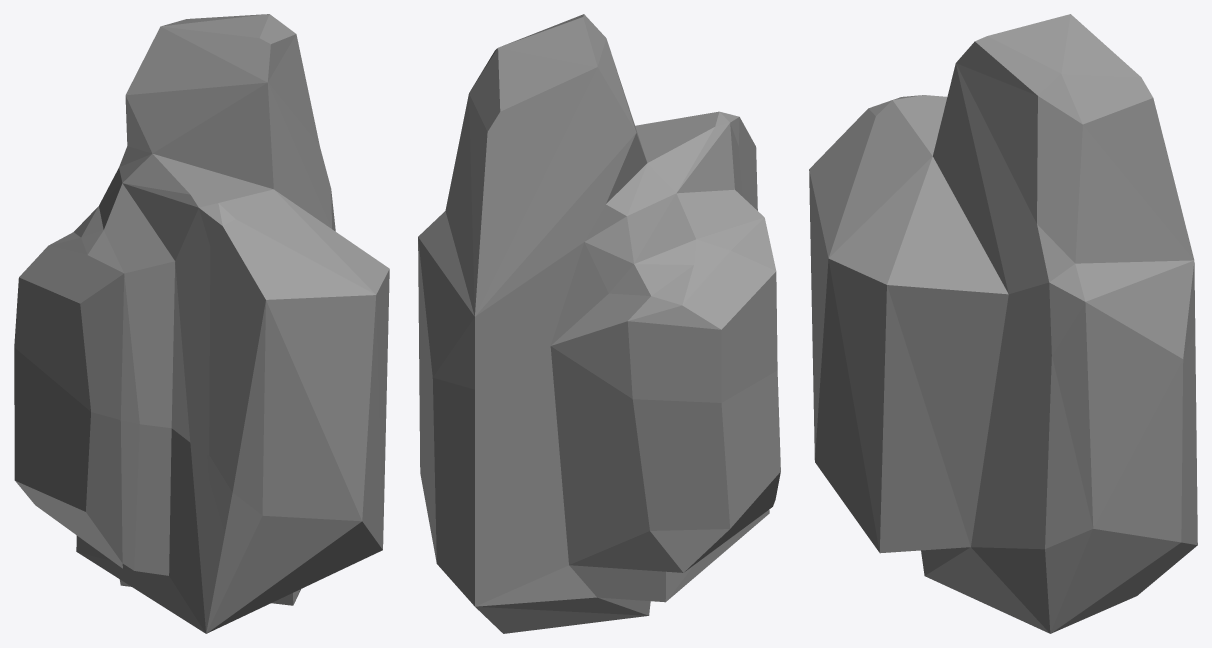
File: rock__rock3_natural_light.glb
3 views of the same model, side by side, from view 1: azimuth 30°, elevation 25°; view 2: azimuth 150°, elevation 25°; view 3: azimuth 270°, elevation 25° (orthographic).
Parts seen in each view (by area): view 1: rock3.natural.light; view 2: rock3.natural.light; view 3: rock3.natural.light.
Boxes of the visible parts, x1,y1,x2,y2 form: rock3.natural.light: (14, 14, 389, 633); rock3.natural.light: (418, 14, 780, 633); rock3.natural.light: (809, 14, 1197, 633).
Bounding box in the file's own units: 3.44 × 5.94 × 3.75.
Materials: 1 (1 with a texture image).
